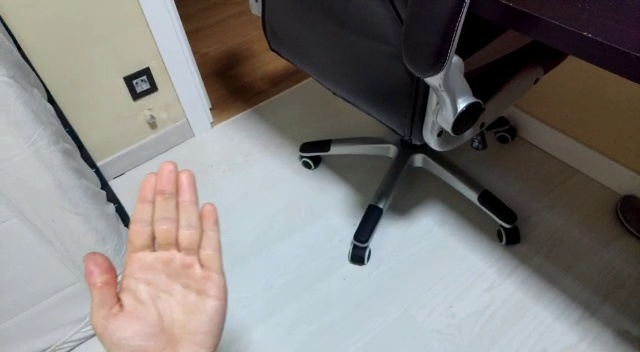Palm: (70, 161, 226, 351)
